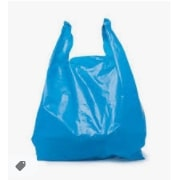kantong: (30, 17, 148, 162)
